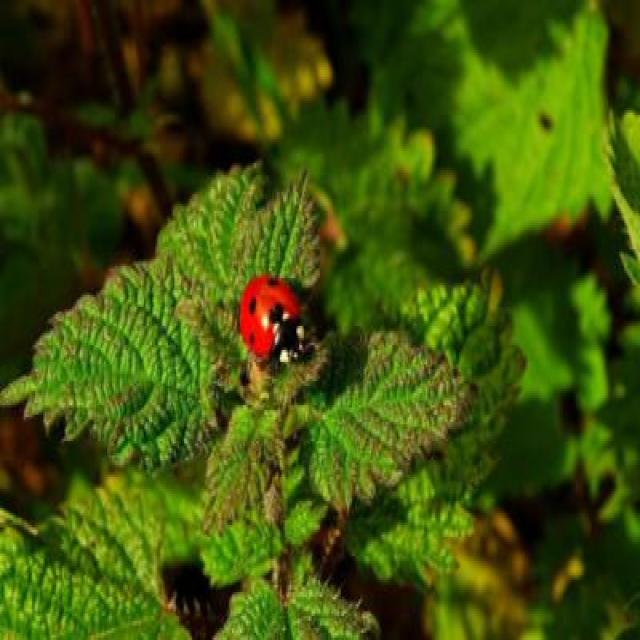body: (241, 277, 308, 363)
insect: (237, 270, 317, 373)
wings: (241, 274, 302, 356)
